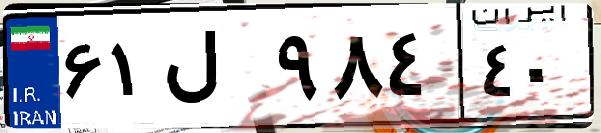0: (525, 38, 570, 115)
1: (110, 28, 158, 98)
4: (385, 28, 445, 110), (475, 38, 525, 113)
6: (57, 26, 110, 100)
8: (330, 28, 385, 110)
9: (270, 28, 330, 110)
ل: (158, 20, 270, 120)
